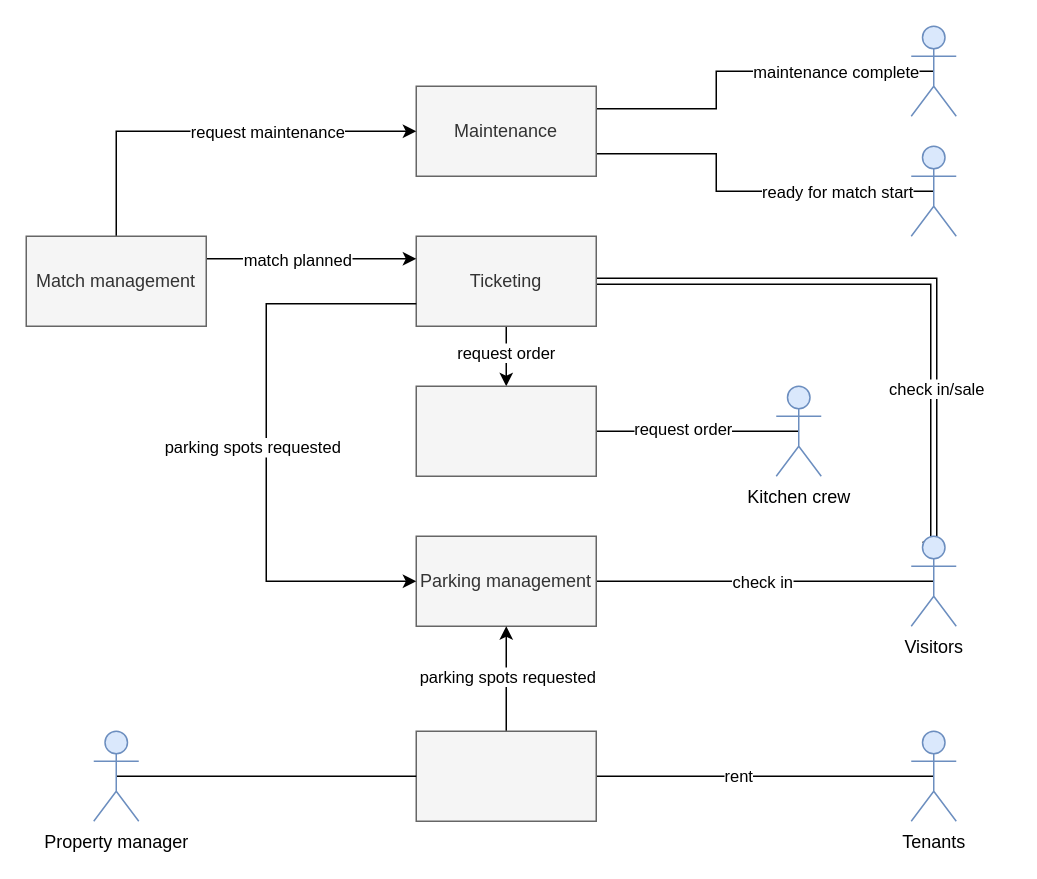
The diagram is 1037 pixels wide and 879 high, and some of its shapes have lost their labels. Here are the shapes that lost their labels. From the top down, the centre of each, then its label:
At point (933, 70): "Maintenance crews".
At point (933, 190): "Cleaning crew".
At point (505, 430): "Catering".
At point (505, 775): "Property rental".
